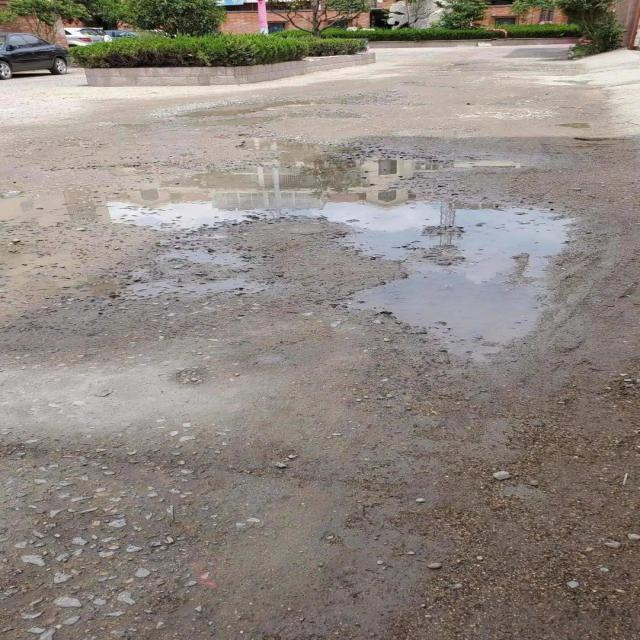Pothole: (117, 132, 550, 376), (175, 100, 394, 130), (434, 150, 547, 171)
